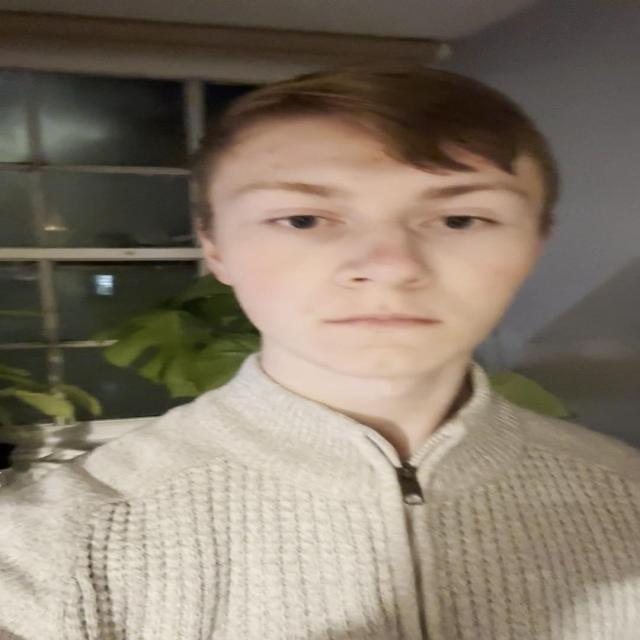no-helmet: (197, 112, 543, 378)
